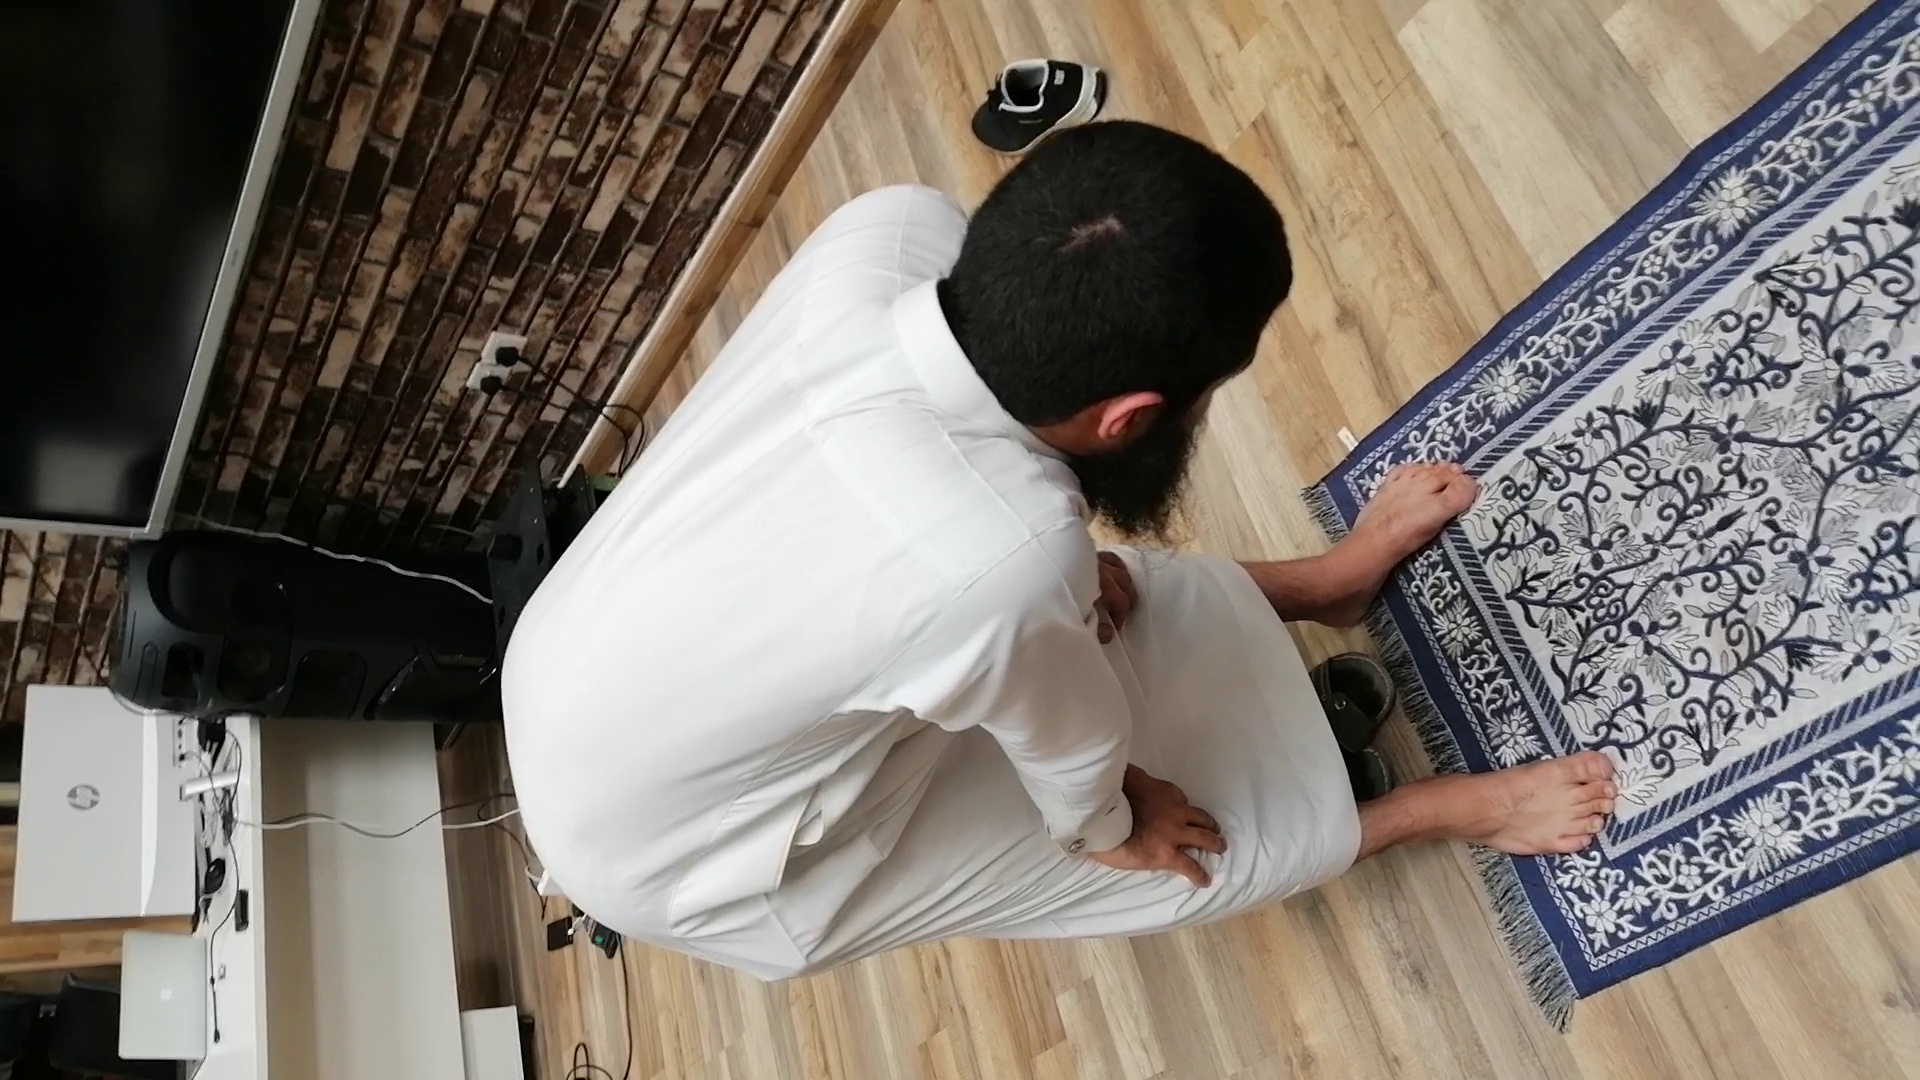ruku: (206, 113, 1745, 963)
